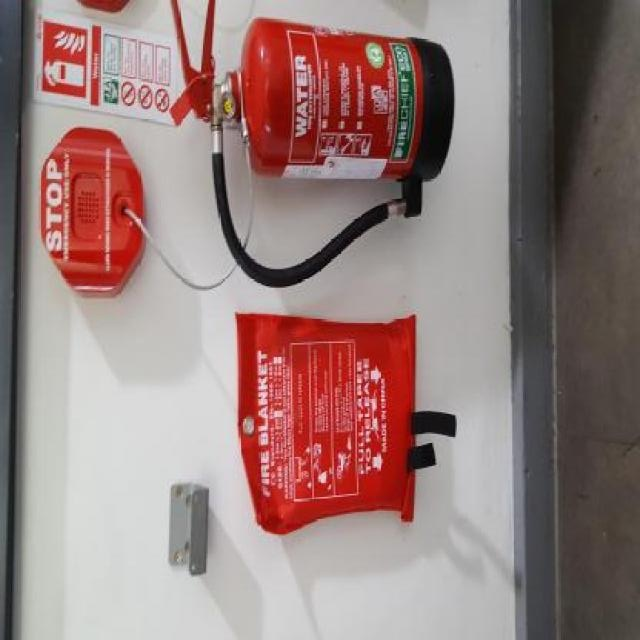fire extinguisher: (169, 0, 455, 293)
